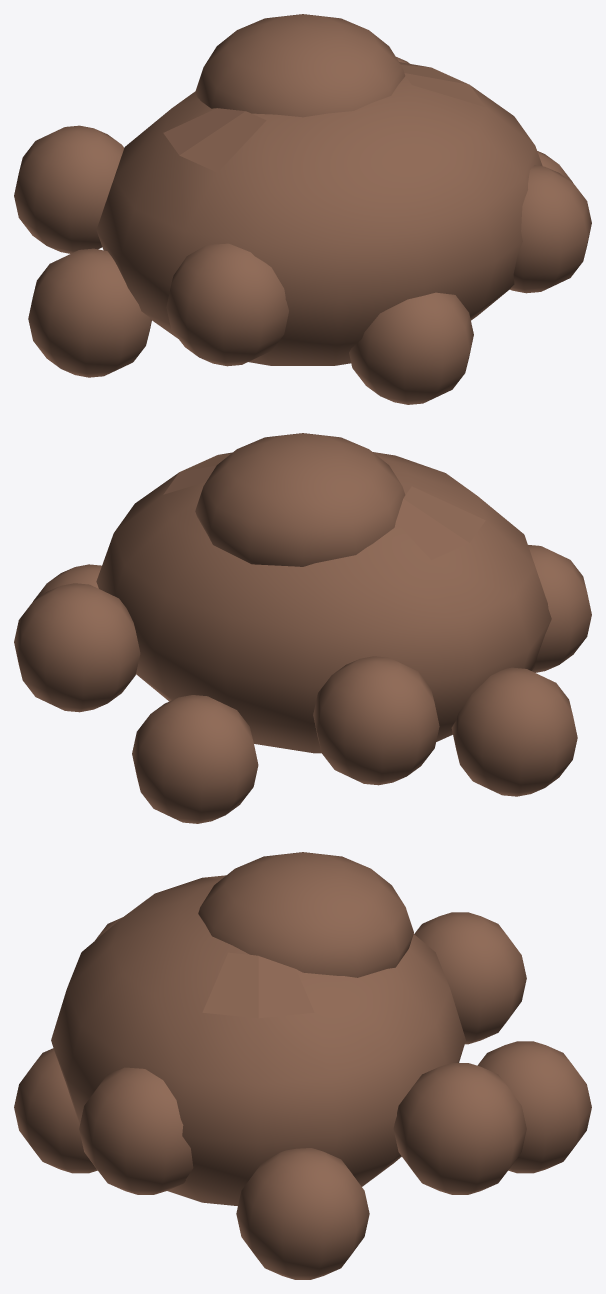
Rendered from Hair_Curls.fbx.
The picture shows the model from 3 angles, top to bottom: view 1: azimuth 30°, elevation 25°; view 2: azimuth 150°, elevation 25°; view 3: azimuth 270°, elevation 25°; orthographic projection. The views are drawn at different scales.
Parts seen in each view (by area): view 1: Hair_Curl.009, Hair_Curl.008, Hair_Curl.002, Hair_Curl.001, Hair_Curl, Hair_Curl.003, Hair_Curl.007; view 2: Hair_Curl.009, Hair_Curl.008, Hair_Curl.004, Hair_Curl.003, Hair_Curl.005, Hair_Curl.002, Hair_Curl.001, Hair_Curl.006; view 3: Hair_Curl.009, Hair_Curl.008, Hair_Curl.005, Hair_Curl.006, Hair_Curl.007, Hair_Curl.003, Hair_Curl.004, Hair_Curl.
Part boxes in pixels (box(x1,y1,x2,y2)): Hair_Curl.009: box(96, 62, 542, 365); Hair_Curl.008: box(195, 14, 405, 117); Hair_Curl.002: box(28, 248, 151, 377); Hair_Curl.001: box(166, 243, 288, 366); Hair_Curl: box(349, 292, 473, 404); Hair_Curl.003: box(14, 125, 124, 253); Hair_Curl.007: box(510, 165, 591, 293); Hair_Curl.009: box(96, 452, 551, 753); Hair_Curl.008: box(195, 433, 405, 566); Hair_Curl.004: box(132, 695, 258, 823); Hair_Curl.003: box(313, 656, 439, 785); Hair_Curl.005: box(14, 583, 140, 712); Hair_Curl.002: box(451, 667, 577, 796); Hair_Curl.001: box(528, 545, 591, 672); Hair_Curl.006: box(33, 564, 101, 601); Hair_Curl.009: box(51, 875, 465, 1206); Hair_Curl.008: box(198, 852, 413, 977); Hair_Curl.005: box(393, 1063, 526, 1194); Hair_Curl.006: box(236, 1148, 369, 1279); Hair_Curl.007: box(79, 1067, 193, 1194); Hair_Curl.003: box(414, 912, 526, 1044); Hair_Curl.004: box(477, 1041, 591, 1173); Hair_Curl: box(14, 1048, 97, 1173).
Bounding box in the file's own units: 85.12 × 46 × 78.
